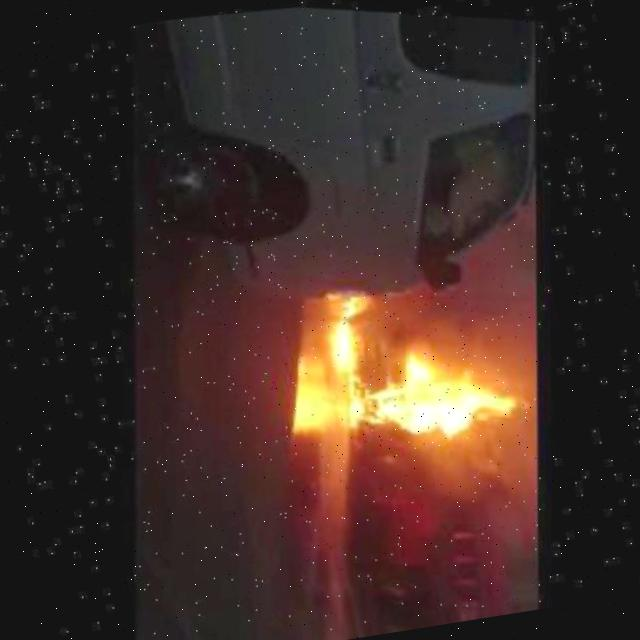fire: (338, 323, 530, 465), (321, 282, 383, 374)
